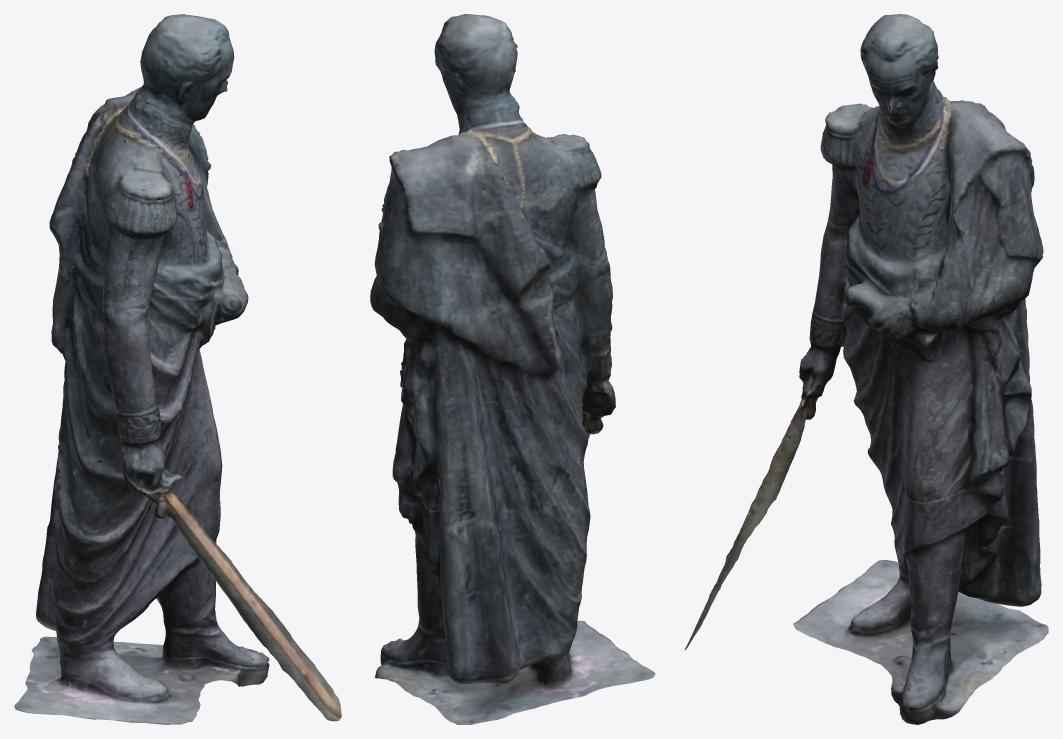
Rendered from simon_bolivar_scanner_3d_simplified_3d_mesh.lod1.glb.
The picture shows the model from 3 angles, left to right: view 1: azimuth 30°, elevation 25°; view 2: azimuth 150°, elevation 25°; view 3: azimuth 270°, elevation 25°; orthographic projection. The views are drawn at different scales.
Parts seen in each view (by area): view 1: mesh_out_node; view 2: mesh_out_node; view 3: mesh_out_node.
Part boxes in pixels (<box>): mesh_out_node: <box>14,14,341,724</box>; mesh_out_node: <box>370,14,655,724</box>; mesh_out_node: <box>684,14,1048,724</box>.
Bounding box in the file's own units: 0.8527 × 2.11 × 1.05.
1 material, 1 textured.
